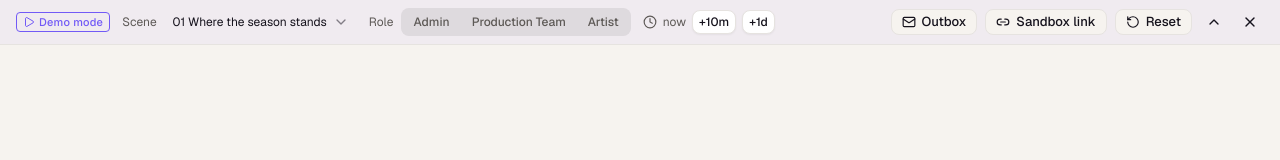
Test: DemoBar › clicking a role button switches the active viewAsRole via setViewAsRole
Click the button "Production Team" at {"x": 519, "y": 22}, box [462,10,576,34]
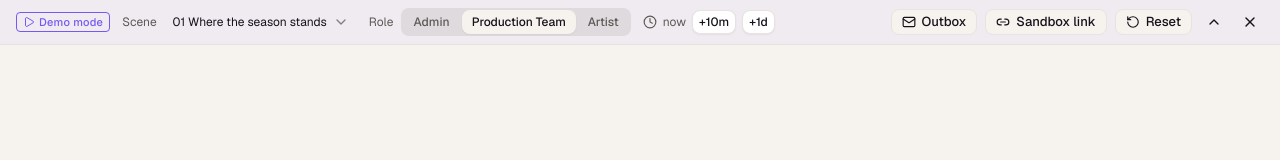
Result: the button "Production Team" is pressed
# Clicking the already-active role again clears the simulation (toggle off).
Click the button "Production Team" at {"x": 519, "y": 22}, box [462,10,576,34]
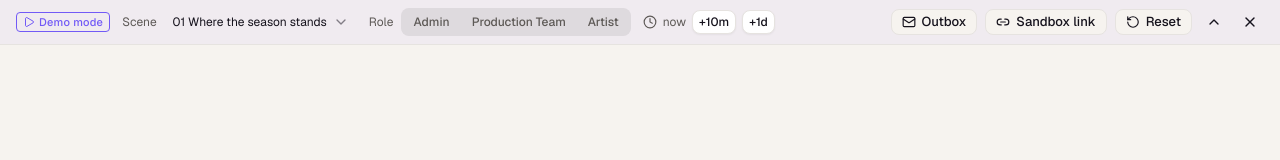
Result: the button "Production Team" is not pressed at [462,10,576,34]
